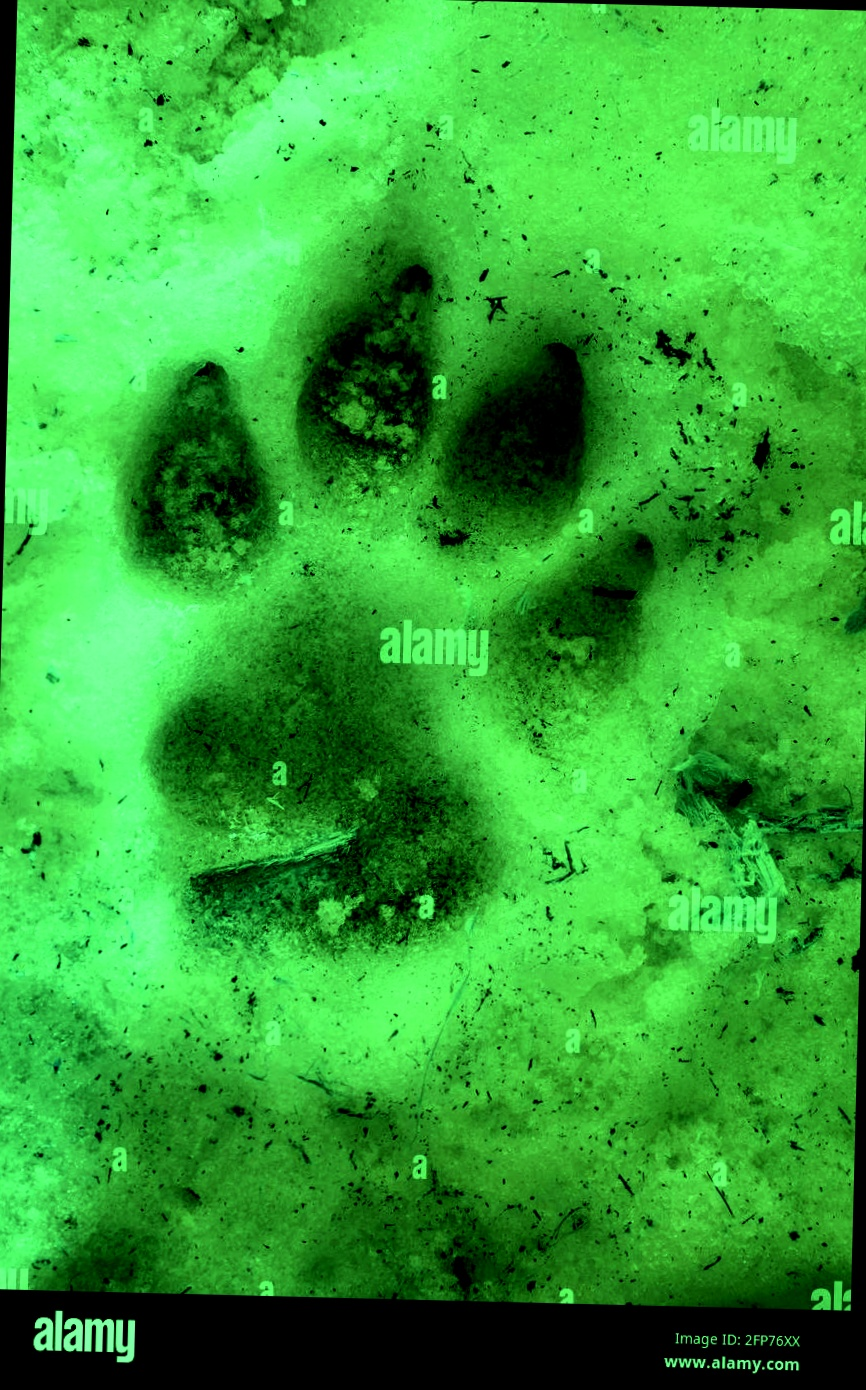loup: (1, 184, 776, 1158)
